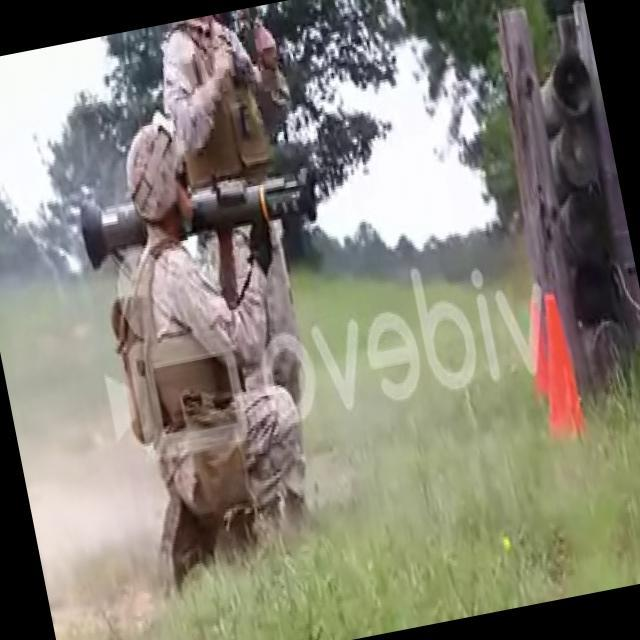rocket: (77, 166, 323, 272)
